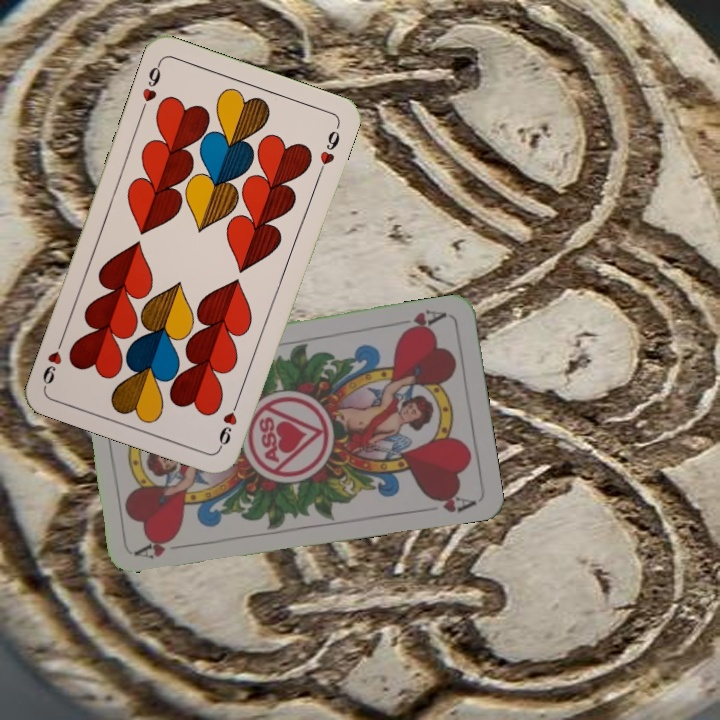H9: (214, 393, 243, 451), (137, 58, 164, 115)
HA: (132, 530, 191, 562), (396, 305, 450, 336)
